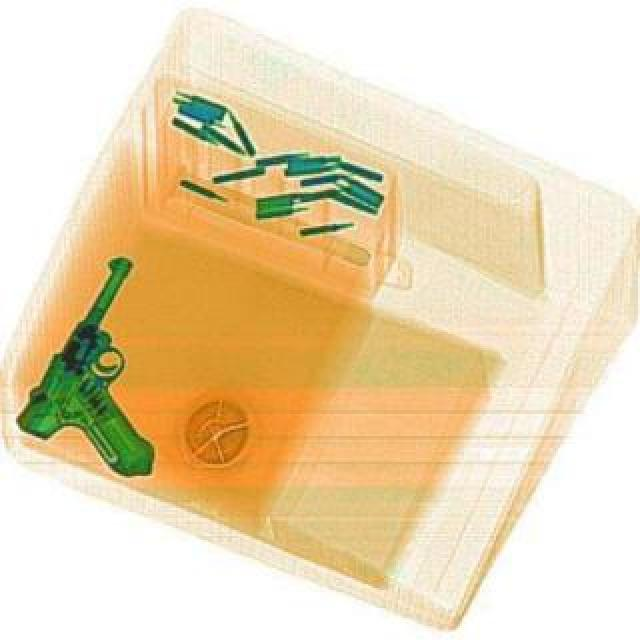gun: (2, 250, 246, 490)
